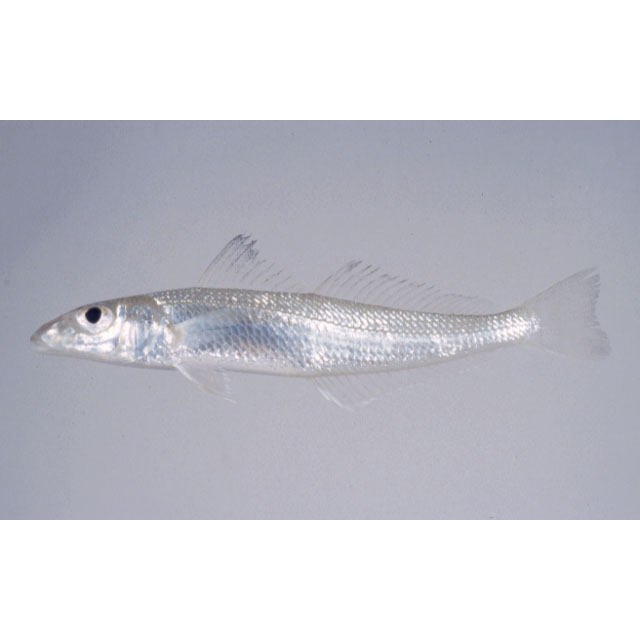kiss: (33, 232, 627, 417)
